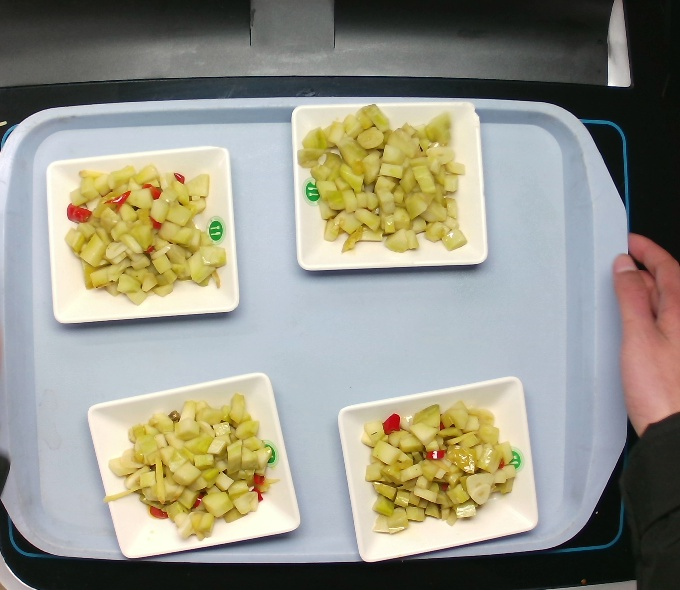wcq-YanHuaCaiGeng: (290, 98, 472, 256), (106, 389, 280, 541), (60, 153, 228, 310), (352, 397, 531, 541)
